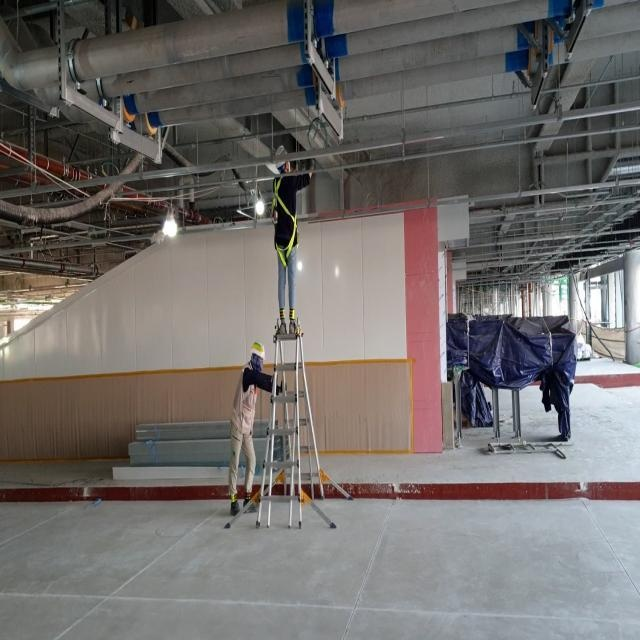Arnes_seguridad: (274, 178, 298, 267)
